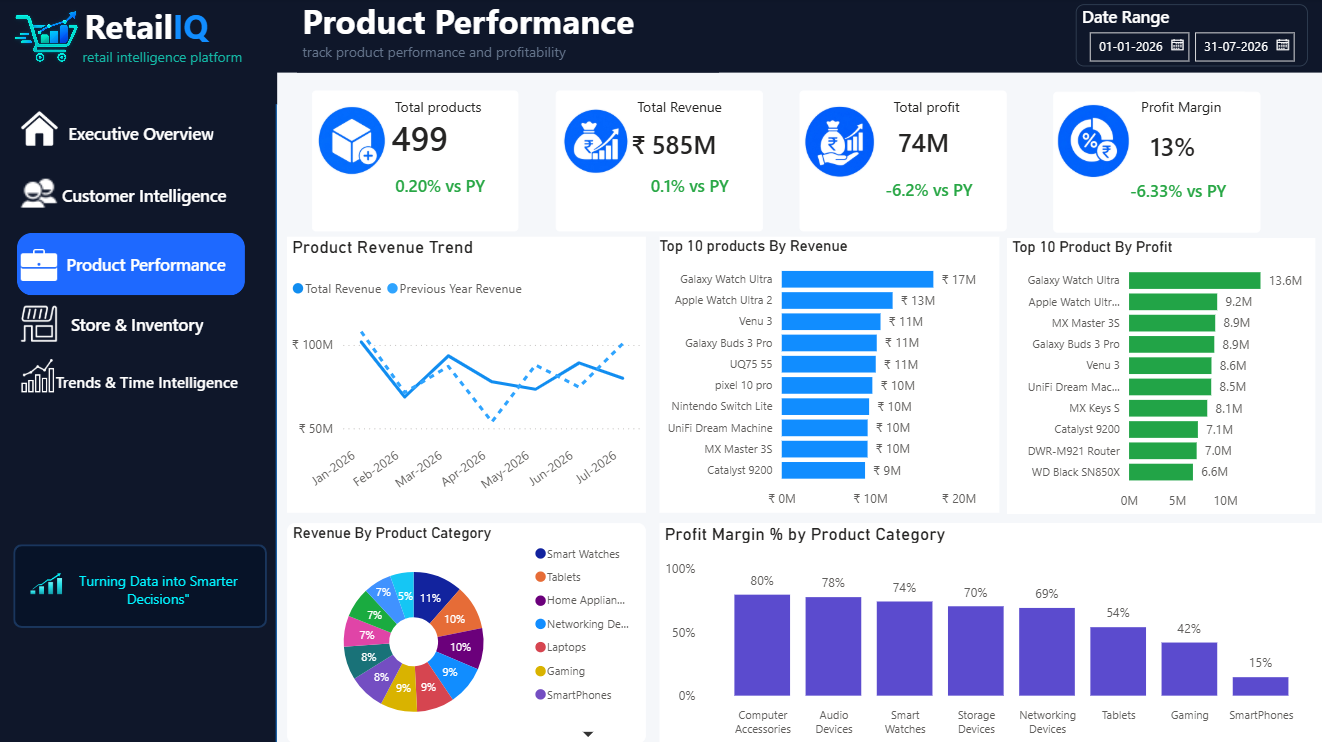

Layout of this report page (visuals, bound fields, positions):
{"tool":"powerbi","page":{"name":"Product Performance","canvas":[1280,720],"ordinal":2},"visuals":[{"type":"shape","box":[0,0,270,720],"z":0},{"type":"shape","box":[270,0,1010,72],"z":1000},{"type":"textbox","box":[0,0,270.2,102.7],"z":2000},{"type":"image","box":[0,1.2,99,72],"z":3000},{"type":"textbox","box":[289.8,0,407.2,72.1],"z":4000},{"type":"slicer","title":"Date Range","fields":{"Values":["DateTable.Date"]},"box":[1040.6,6.1,224,60],"z":5000},{"type":"actionButton","box":[15,100,220,60],"z":6000},{"type":"image","box":[20,109,40,35],"z":7000},{"type":"actionButton","box":[14.7,161,220,60],"z":8000},{"type":"actionButton","box":[19.6,227,220,60],"z":9000},{"type":"actionButton","box":[19.6,285,220,60],"z":10000},{"type":"actionButton","box":[16,340,228,60],"z":11000},{"type":"image","box":[20,170,40,35],"z":12000},{"type":"image","box":[20,240,40,35],"z":13000},{"type":"image","box":[20,297,40,35],"z":14000},{"type":"image","box":[20,346,40,35],"z":15000},{"type":"shape","box":[15.7,527.2,244.9,80.8],"z":16000},{"type":"image","box":[22,529,50,75],"z":17000},{"type":"cardVisual","fields":{"Data":["RetailIQ_Measures.Active Products"]},"box":[304,89.3,199,136],"z":18000},{"type":"textbox","box":[379,91,115,31],"z":19000},{"type":"image","box":[304,88,77.6,101.7],"z":20000},{"type":"cardVisual","fields":{"Data":["RetailIQ_Measures.Total Revenue"]},"box":[539.3,89.3,199.6,136],"z":21000},{"type":"image","box":[539.3,88.1,77.6,101.7],"z":22000},{"type":"textbox","box":[613,91,105,31],"z":23000},{"type":"cardVisual","fields":{"Data":["RetailIQ_Measures.Total Profit"]},"box":[774.5,89.3,199.6,136],"z":24000},{"type":"image","box":[774.5,88,77.6,101.7],"z":25000},{"type":"textbox","box":[860,91,95,31],"z":26000},{"type":"cardVisual","fields":{"Data":["RetailIQ_Measures.Profit Margin %"]},"box":[1019.4,90.5,199.6,136],"z":27000},{"type":"image","box":[1019.4,88.1,77.6,101.7],"z":28000},{"type":"textbox","box":[1099,91,105,31],"z":29000},{"type":"lineChart","title":"Product Revenue Trend","fields":{"Category":["DateTable.Year Month"],"Y":["RetailIQ_Measures.Total Revenue","RetailIQ_Measures.Previous Year Revenue"]},"box":[280,231,346,266],"z":30000},{"type":"clusteredBarChart","title":"Top 10 products By Revenue","fields":{"Category":["retailiq product.model"],"Y":["RetailIQ_Measures.Total Revenue"]},"box":[639,231,328,266],"z":31000},{"type":"clusteredBarChart","title":"Top 10 Product By Profit","fields":{"Y":["RetailIQ_Measures.Total Profit"],"Category":["retailiq product.model"]},"box":[974.6,231.2,297.9,266.5],"z":32000},{"type":"donutChart","title":"Revenue By Product Category","fields":{"Category":["retailiq category.category_name"],"Y":["RetailIQ_Measures.Total Revenue"]},"box":[279.6,506.9,346.2,212.9],"z":33000},{"type":"clusteredColumnChart","title":"Profit Margin % by Product Category","fields":{"Category":["retailiq category.category_name"],"Y":["RetailIQ_Measures.Profit Margin %"]},"box":[639.4,506.8,640.9,213.6],"z":34000}]}

Visuals, with their boxes in screenshot pixels (x1, y1, x2, y2), scaled from the page's 1280x720 canvas onto the 1322x742 screenshot:
shape: left=0, top=0, right=279, bottom=741
shape: left=279, top=0, right=1321, bottom=74
textbox: left=0, top=0, right=279, bottom=106
image: left=0, top=1, right=102, bottom=75
textbox: left=299, top=0, right=720, bottom=74
"Date Range" slicer: left=1075, top=6, right=1306, bottom=68
actionButton: left=15, top=103, right=243, bottom=165
image: left=21, top=112, right=62, bottom=148
actionButton: left=15, top=166, right=242, bottom=228
actionButton: left=20, top=234, right=247, bottom=296
actionButton: left=20, top=294, right=247, bottom=356
actionButton: left=17, top=350, right=252, bottom=412
image: left=21, top=175, right=62, bottom=211
image: left=21, top=247, right=62, bottom=283
image: left=21, top=306, right=62, bottom=342
image: left=21, top=357, right=62, bottom=393
shape: left=16, top=543, right=269, bottom=627
image: left=23, top=545, right=74, bottom=622
cardVisual - RetailIQ_Measures.Active Products: left=314, top=92, right=520, bottom=232
textbox: left=391, top=94, right=510, bottom=126
image: left=314, top=91, right=394, bottom=195
cardVisual - RetailIQ_Measures.Total Revenue: left=557, top=92, right=763, bottom=232
image: left=557, top=91, right=637, bottom=196
textbox: left=633, top=94, right=742, bottom=126
cardVisual - RetailIQ_Measures.Total Profit: left=800, top=92, right=1006, bottom=232
image: left=800, top=91, right=880, bottom=195
textbox: left=888, top=94, right=986, bottom=126
cardVisual - RetailIQ_Measures.Profit Margin %: left=1053, top=93, right=1259, bottom=233
image: left=1053, top=91, right=1133, bottom=196
textbox: left=1135, top=94, right=1244, bottom=126
"Product Revenue Trend" lineChart: left=289, top=238, right=647, bottom=512
"Top 10 products By Revenue" clusteredBarChart: left=660, top=238, right=999, bottom=512
"Top 10 Product By Profit" clusteredBarChart: left=1007, top=238, right=1314, bottom=513
"Revenue By Product Category" donutChart: left=289, top=522, right=646, bottom=741
"Profit Margin % by Product Category" clusteredColumnChart: left=660, top=522, right=1321, bottom=741
